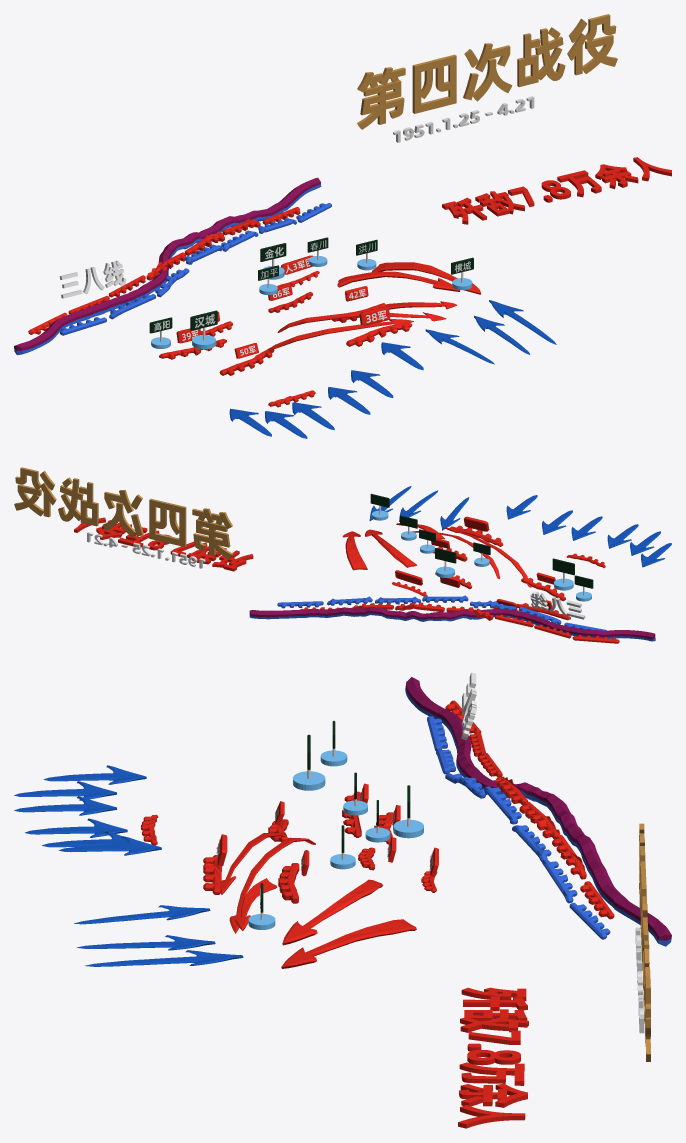
The model's file is 1-4-animate.glb.
3 views of the same model, one above another, from view 1: azimuth 30°, elevation 25°; view 2: azimuth 150°, elevation 25°; view 3: azimuth 270°, elevation 25° (orthographic). The views are drawn at different scales.
Visible parts, largest first — view 1: 文本.020, 38line, 文本.029, 文本.021, 文本.016, 贝塞尔曲线.087, 贝塞尔曲线.143, 柱体.010, 贝塞尔曲线.090, 贝塞尔曲线.092; view 2: 文本.020, 38line, 文本.029, 文本.021, 文本.016, 柱体.010, 贝塞尔曲线.143, 贝塞尔曲线.087, 柱体.020, 贝塞尔曲线.090, 柱体.021, 柱体.018 (+13 smaller); view 3: 文本.029, 38line, 文本.020, 贝塞尔曲线.143, 贝塞尔曲线.087, 贝塞尔曲线.142, 贝塞尔曲线.141, 贝塞尔曲线.140, 贝塞尔曲线.077, 贝塞尔曲线.136, 贝塞尔曲线.139, 贝塞尔曲线.137 (+4 smaller).
Boxes of the visible parts, x1,y1,x2,y2 form: 文本.020: [357, 14, 617, 129]; 38line: [14, 177, 321, 355]; 文本.029: [442, 157, 671, 224]; 文本.021: [393, 96, 534, 142]; 文本.016: [59, 260, 126, 298]; 贝塞尔曲线.087: [337, 271, 460, 291]; 贝塞尔曲线.143: [372, 262, 481, 294]; 柱体.010: [190, 310, 217, 349]; 贝塞尔曲线.090: [268, 319, 413, 351]; 贝塞尔曲线.092: [277, 312, 446, 332]; 文本.020: [14, 467, 232, 559]; 38line: [249, 606, 655, 641]; 文本.029: [74, 515, 253, 571]; 文本.021: [87, 532, 205, 568]; 文本.016: [530, 591, 585, 619]; 柱体.010: [552, 558, 574, 590]; 贝塞尔曲线.143: [342, 531, 367, 570]; 贝塞尔曲线.087: [365, 529, 417, 567]; 柱体.020: [435, 548, 456, 577]; 贝塞尔曲线.090: [444, 527, 531, 587]; 柱体.021: [370, 494, 389, 520]; 柱体.018: [574, 575, 593, 601]; 文本.029: [458, 987, 528, 1128]; 38line: [405, 677, 671, 946]; 文本.020: [639, 823, 650, 1061]; 贝塞尔曲线.143: [281, 919, 416, 968]; 贝塞尔曲线.087: [282, 879, 382, 945]; 贝塞尔曲线.142: [85, 950, 243, 966]; 贝塞尔曲线.141: [76, 935, 215, 950]; 贝塞尔曲线.140: [74, 905, 210, 924]; 贝塞尔曲线.077: [43, 765, 146, 784]; 贝塞尔曲线.136: [14, 796, 116, 815]; 贝塞尔曲线.139: [59, 836, 161, 855]; 贝塞尔曲线.137: [25, 818, 127, 837].
Size of what is drawn, in the model's own units: 52.5 by 9.96 by 32.43.
